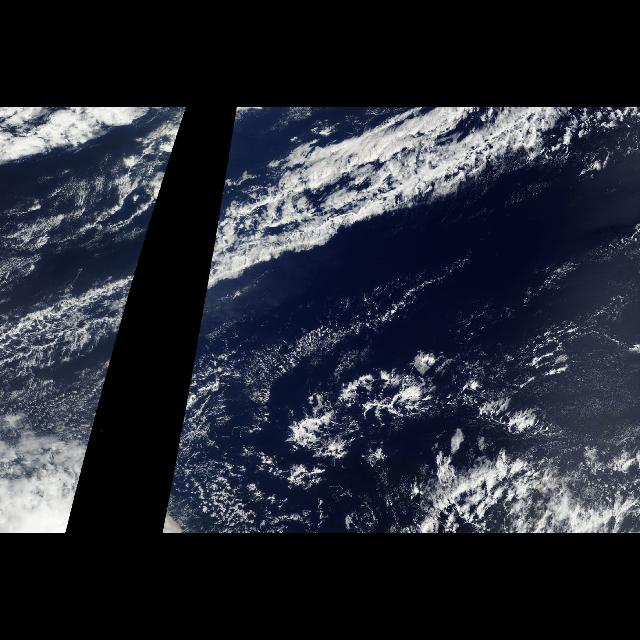Fish: (206, 107, 640, 285), (0, 266, 134, 404)
Flower: (264, 354, 548, 492)
Gravel: (179, 344, 611, 532)
